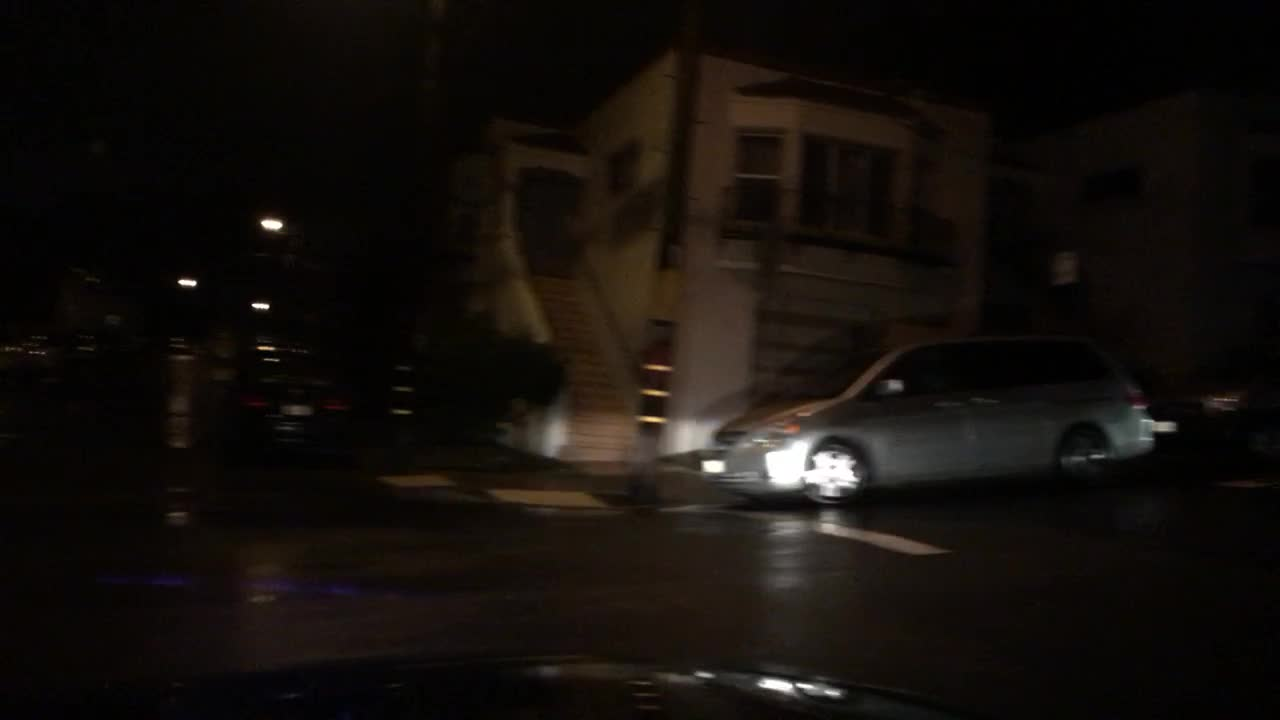car: (700, 332, 1154, 507), (217, 340, 357, 479), (1179, 348, 1278, 463), (1098, 509, 1122, 525)
